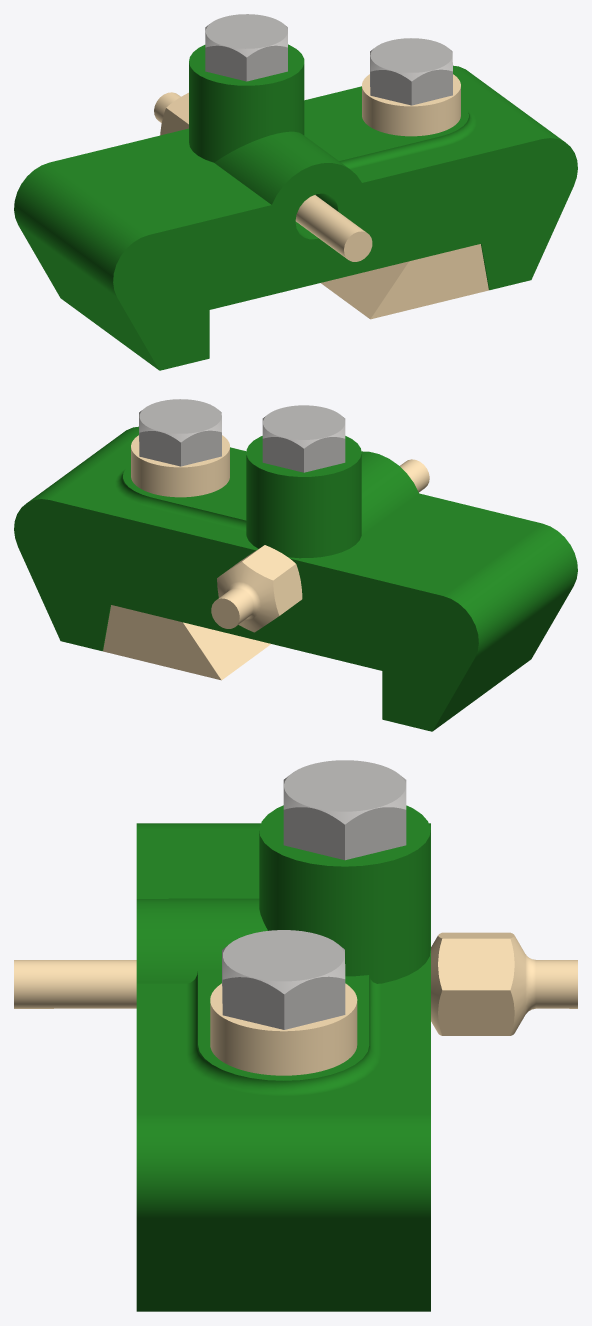
3 views of the same model, one above another, from view 1: azimuth 30°, elevation 25°; view 2: azimuth 150°, elevation 25°; view 3: azimuth 270°, elevation 25° (orthographic). The views are drawn at different scales.
Visible parts, largest first — view 1: Solid1 (×6); view 2: Solid1 (×6); view 3: Solid1 (×5).
Boxes of the visible parts, <box> form: Solid1 (×6): <box>14,14,577,370</box>; Solid1 (×6): <box>14,399,577,731</box>; Solid1 (×5): <box>14,760,577,1311</box>.
Bounding box in the file's own units: 0.1032 × 0.0554 × 0.073.
